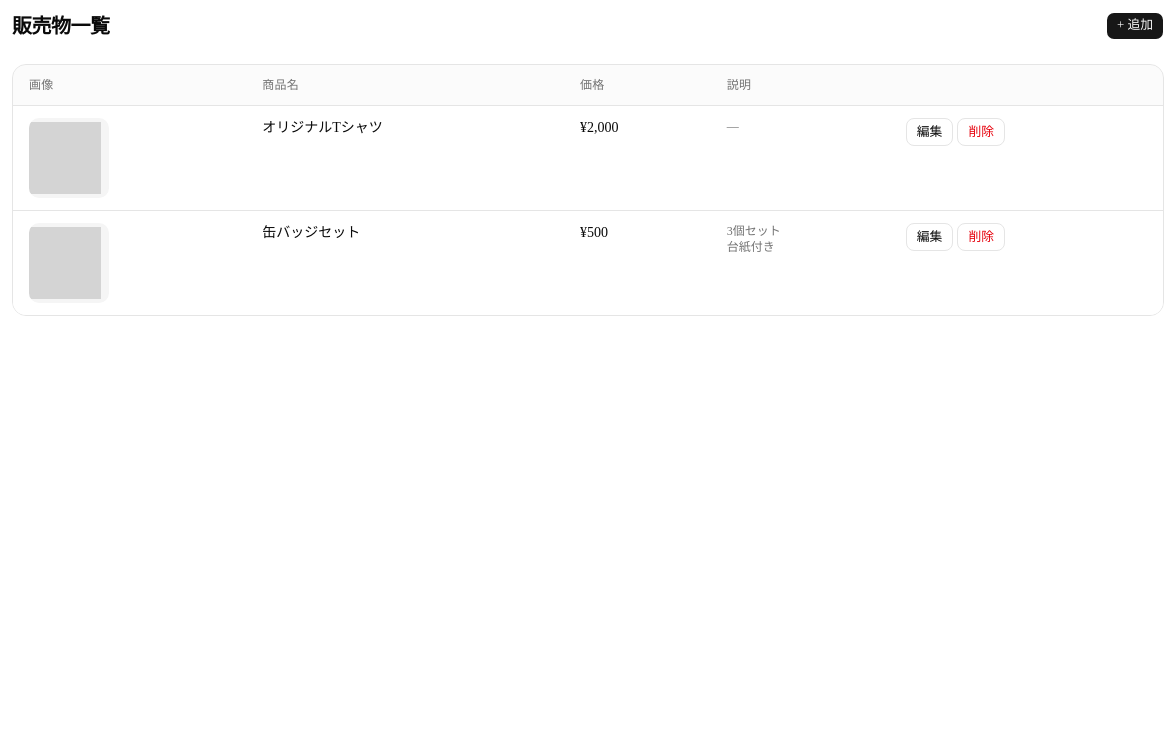
Test case: ShopItemAdminPanel › 編集ボタンで既存データがフォームに入力済みになる
The image size is (1176, 732).
Click the button "編集" in the row of "オリジナルTシャツ": (930, 132) [906, 118, 953, 146]
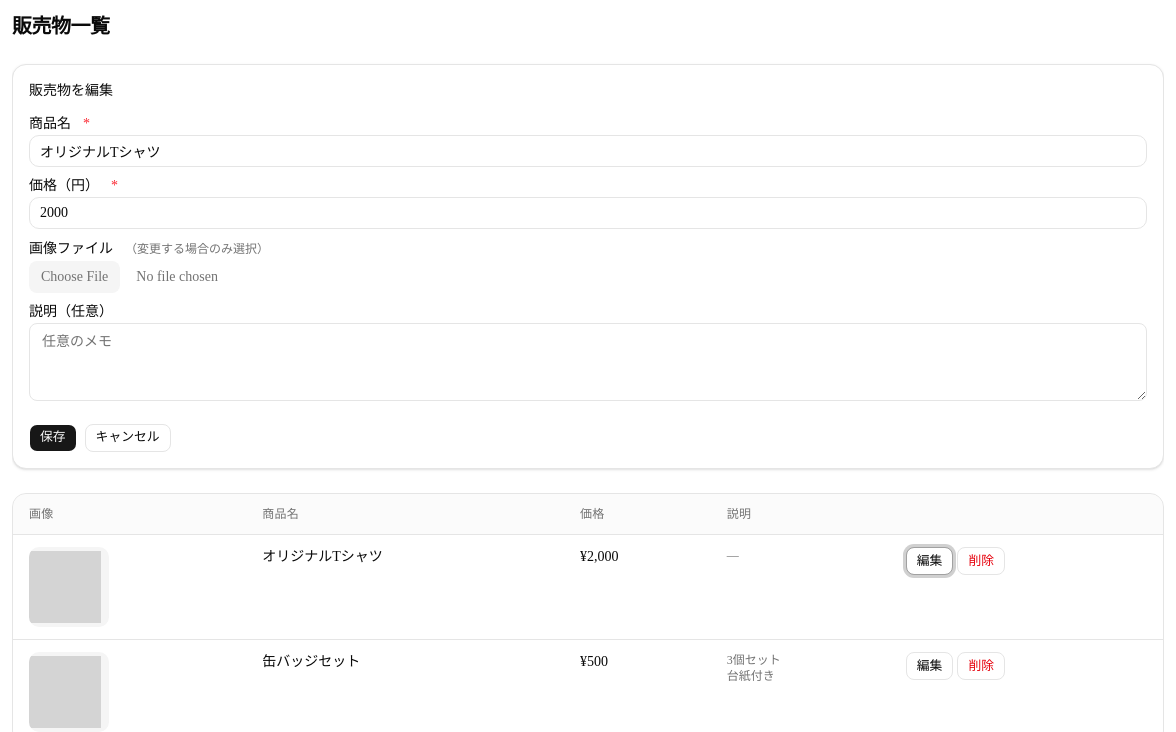
Result: the heading "販売物を編集" is shown at [29, 83, 113, 98]
Result: the field labelled "商品名 *" holds "オリジナルTシャツ" at [29, 135, 1147, 167]
Result: the number field labelled "価格（円） *" holds "2000" at [29, 197, 1147, 229]
